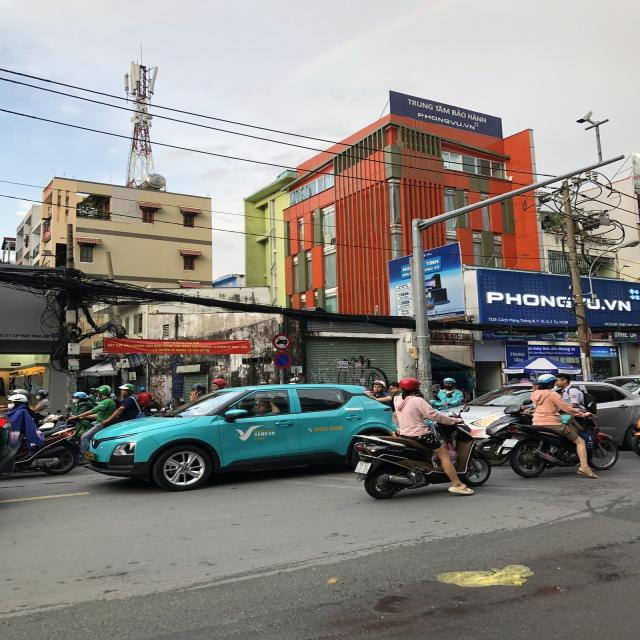Bien bao cam do xe: (272, 351, 293, 369)
Bien bao cam xe oto tai: (272, 332, 292, 350)
